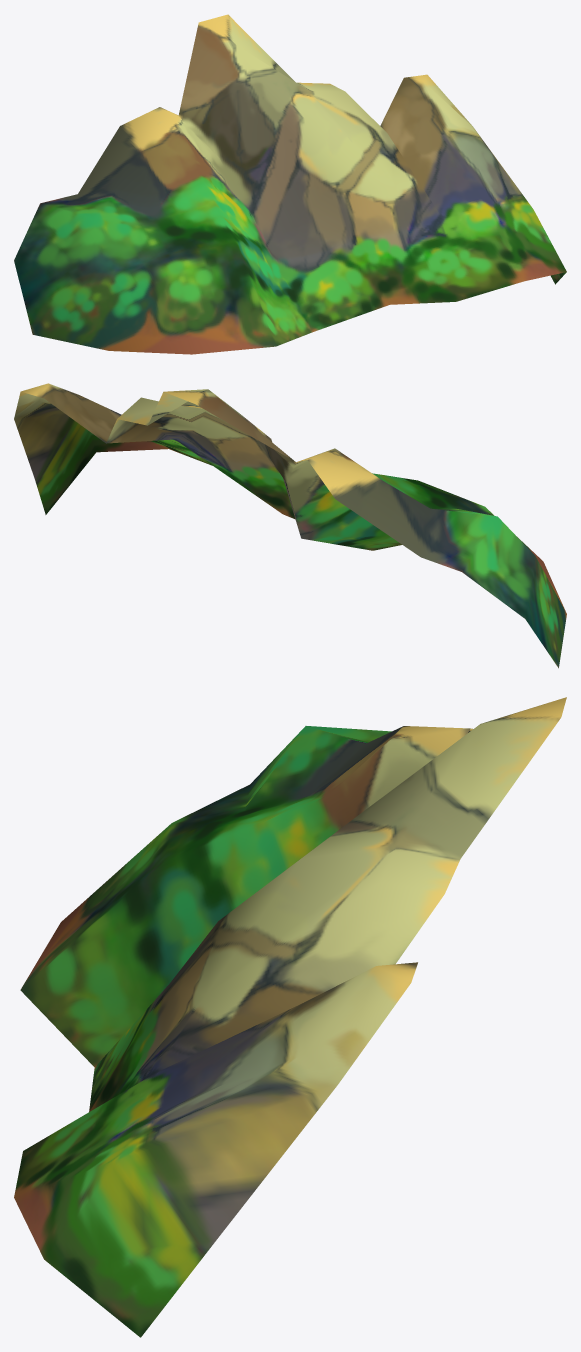
The model's file is map_plain_road20.FBX.
3 renders of one model, top to bottom at view 1: azimuth 30°, elevation 25°; view 2: azimuth 150°, elevation 25°; view 3: azimuth 270°, elevation 25°, orthographic. The views are drawn at different scales.
Visible parts, largest first — view 1: map_plain_road20; view 2: map_plain_road20; view 3: map_plain_road20.
Boxes of the visible parts, x1,y1,x2,y2 form: map_plain_road20: (14,14,566,354); map_plain_road20: (14,383,566,668); map_plain_road20: (14,697,566,1337).
Size of the model in its own units: 17.87 by 9.97 by 8.6.
